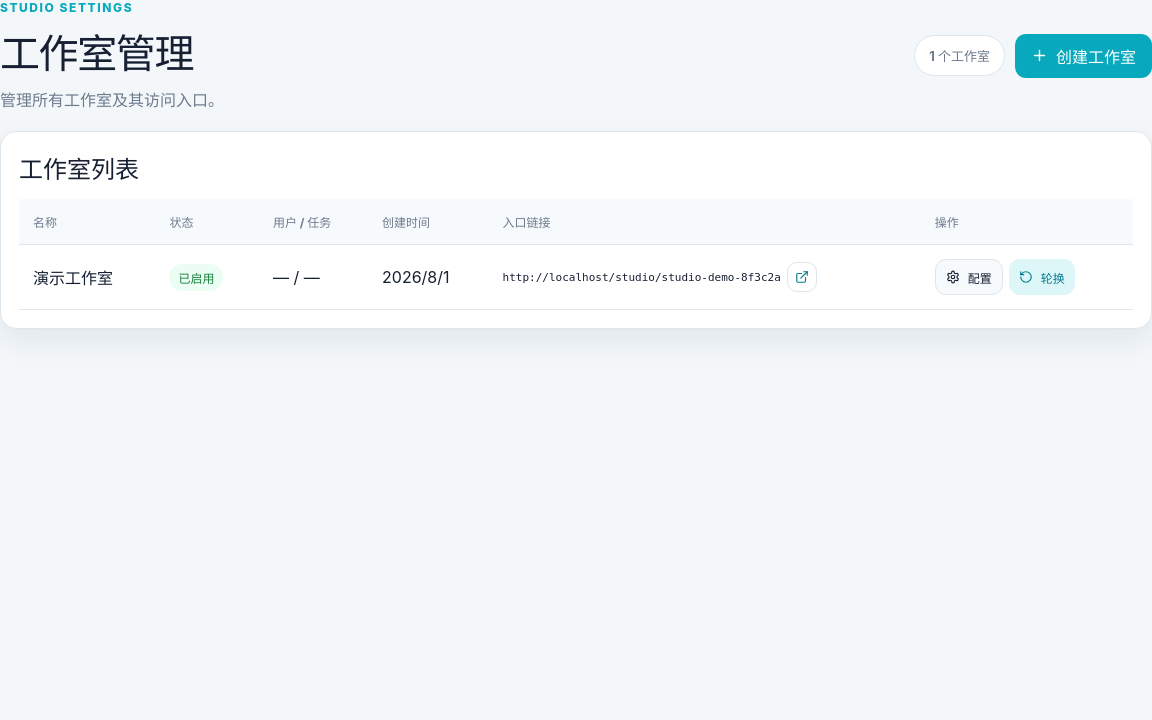
Test: AdminStudioPage › shows the studio list and toggles create form
Expected: the text "演示工作室" is shown, x1=33 y1=268 x2=113 y2=288
Expected: the text "1 个工作室" is shown, x1=914 y1=35 x2=1005 y2=76
# Click to open create modal
Step 1. Click the button "创建工作室" → (1084, 56), box x1=1015 y1=34 x2=1151 y2=78
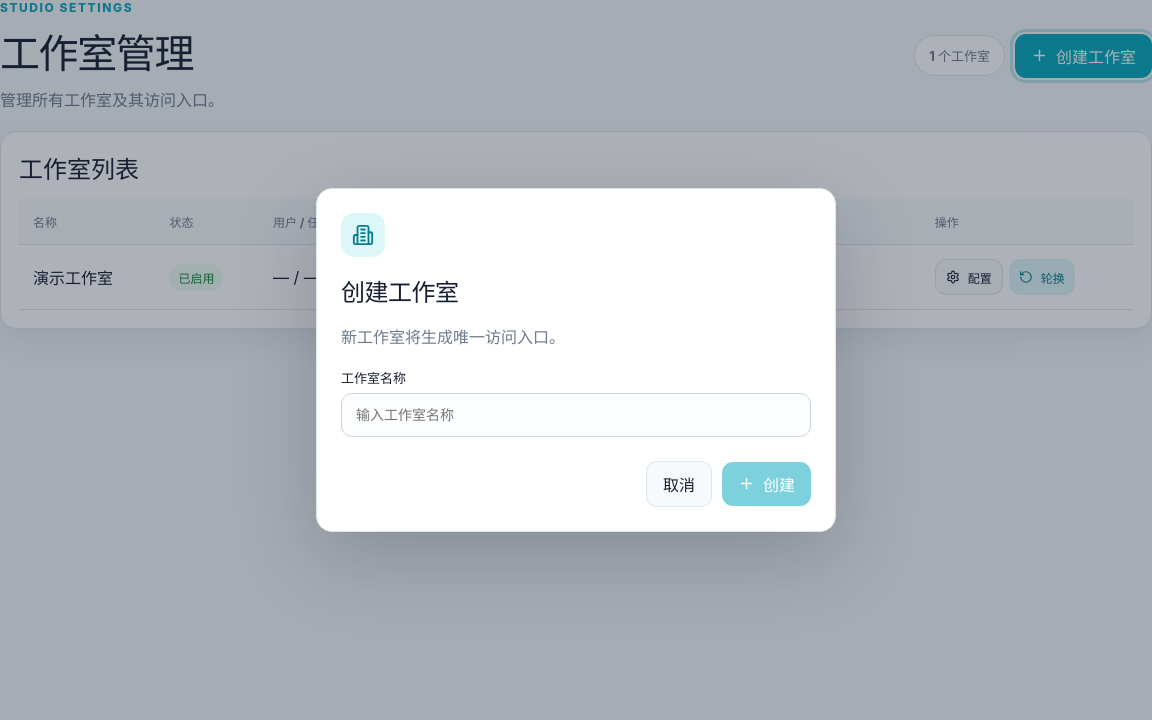
Result: the field with placeholder "输入工作室名称" is shown at x1=341 y1=393 x2=811 y2=437
